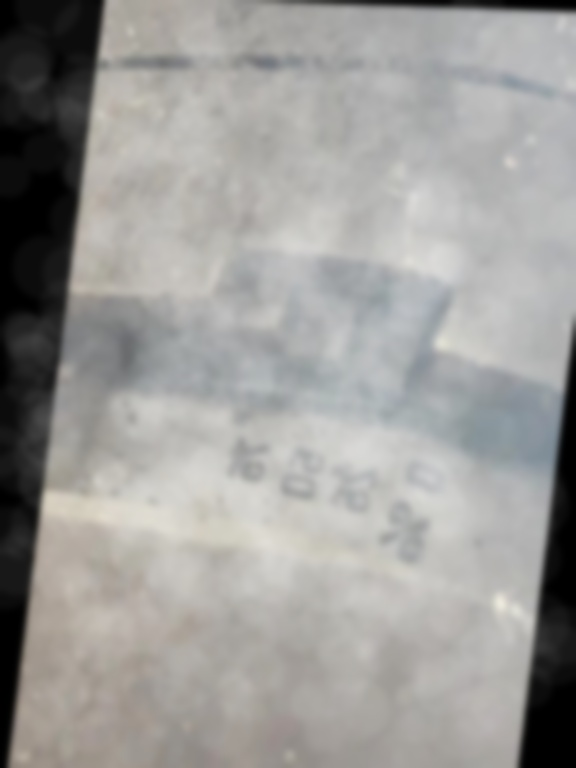temoin:95: (134, 222, 494, 458)
